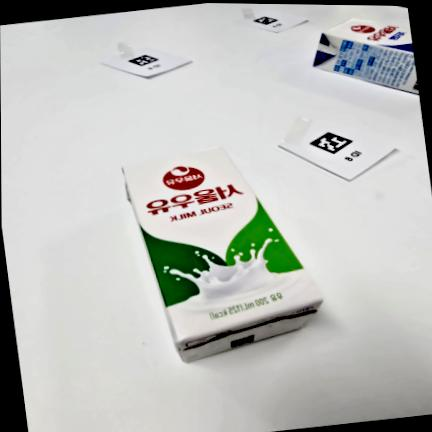milk_blue: (311, 17, 418, 94)
milk_green: (121, 146, 323, 365)
